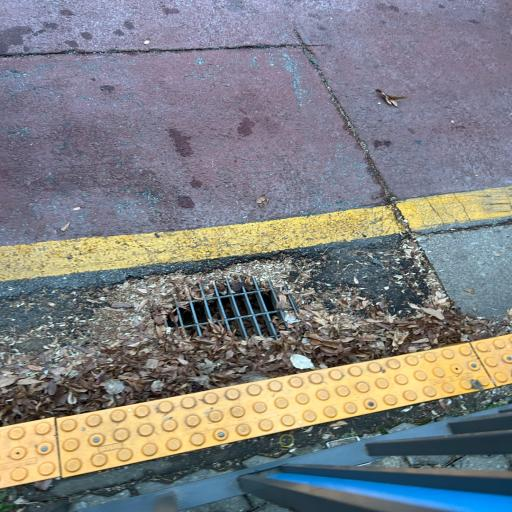debris: (214, 279, 281, 336), (187, 303, 224, 358), (271, 332, 318, 353), (205, 296, 216, 319), (226, 332, 239, 350), (209, 328, 227, 341), (274, 308, 292, 321), (167, 345, 181, 360), (312, 350, 323, 363), (215, 376, 233, 382), (255, 348, 264, 359), (290, 298, 298, 309), (188, 365, 197, 373), (177, 310, 182, 324), (232, 355, 239, 363), (195, 288, 204, 294), (280, 365, 287, 371), (271, 293, 275, 303), (177, 329, 182, 334)
drain: (148, 266, 329, 391)
